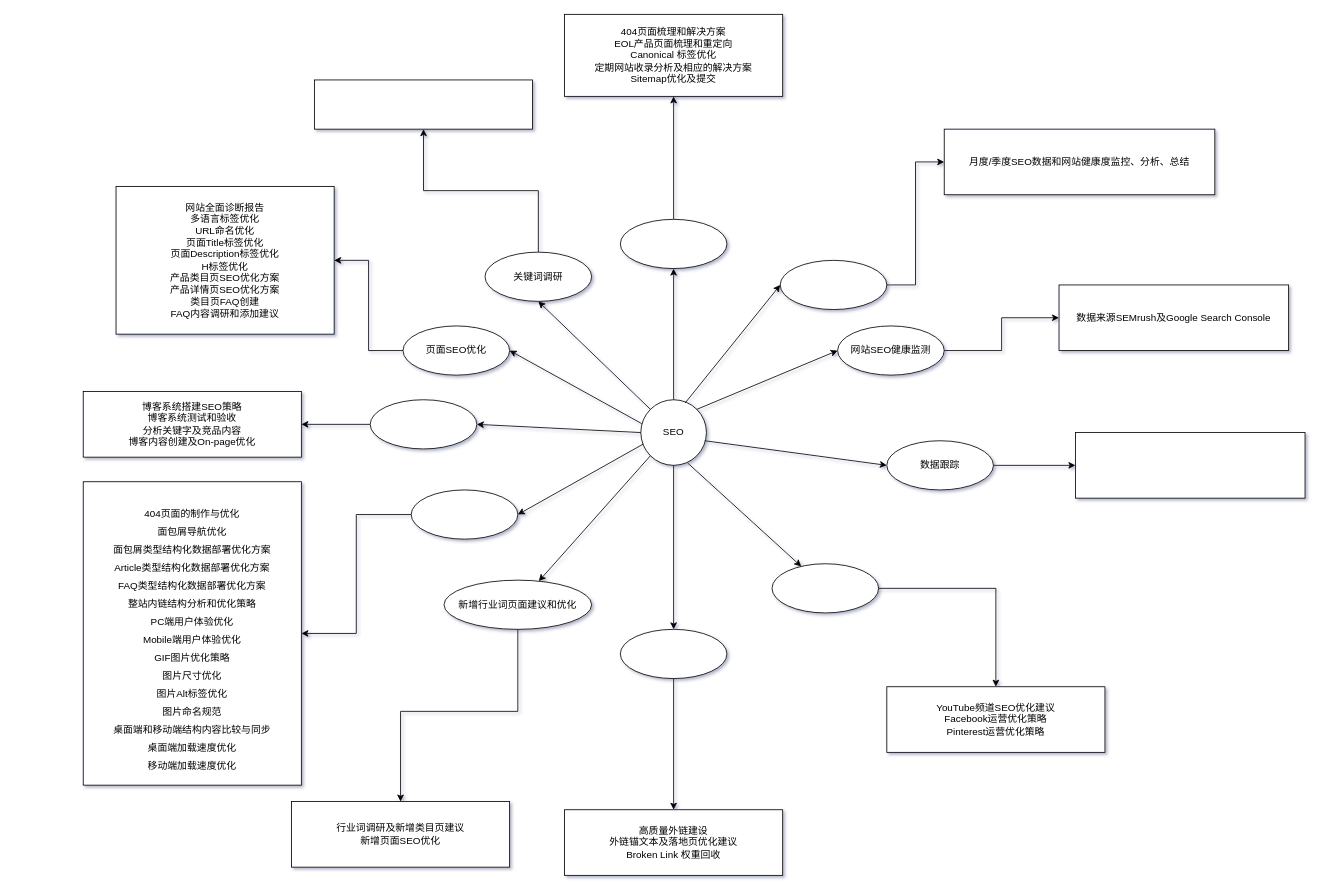
Some shapes in this 1324 by 895 pixel diagram are drawn without their labels. Here are the shapes that lost their labels. From the top down, the centre of each, then its label:
At point 423,104: "关键词拓展分析 重点行业词监控".
At point 673,244: "抓取&收录".
At point 833,285: "网站SEO报告".
At point 423,424: "博客内容创建".
At point 1190,465: "GA账户结构优化建议 GA事件跟踪设置（购买、加购等电商衡量事件）".
At point 464,514: "技术SEO优化".
At point 825,588: "社媒SEO优化".
At point 673,654: "外链优化".
